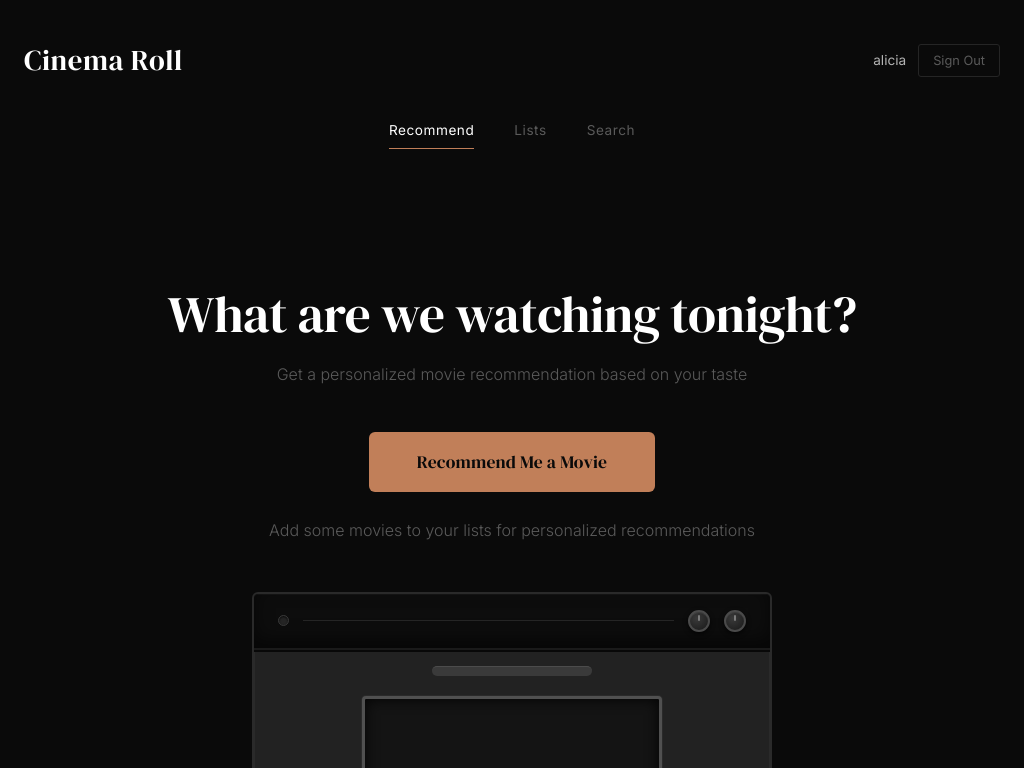
Test case: App — search tab › shows the search form when logged in
The image size is (1024, 768).
Check: the button "alicia" is shown, box [873,46,906,74]
Click the button "Search" at {"x": 611, "y": 130}, box [587,112,635,149]
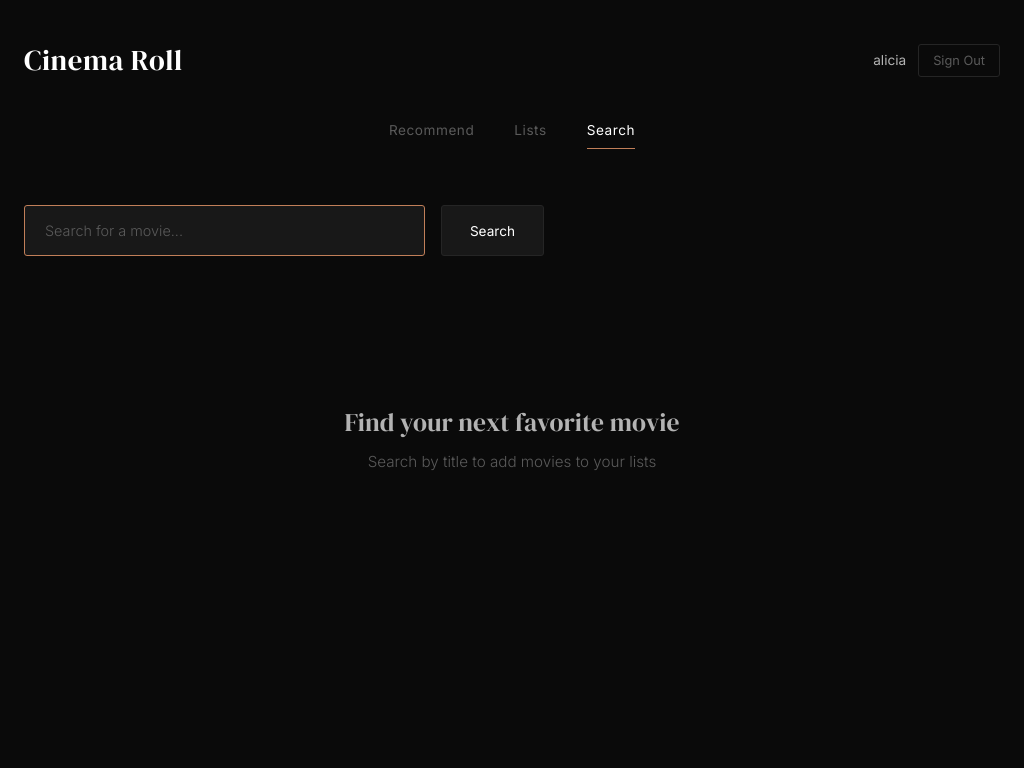
Check: the field with placeholder "Search for a movie..." is shown, box [24,205,425,256]
